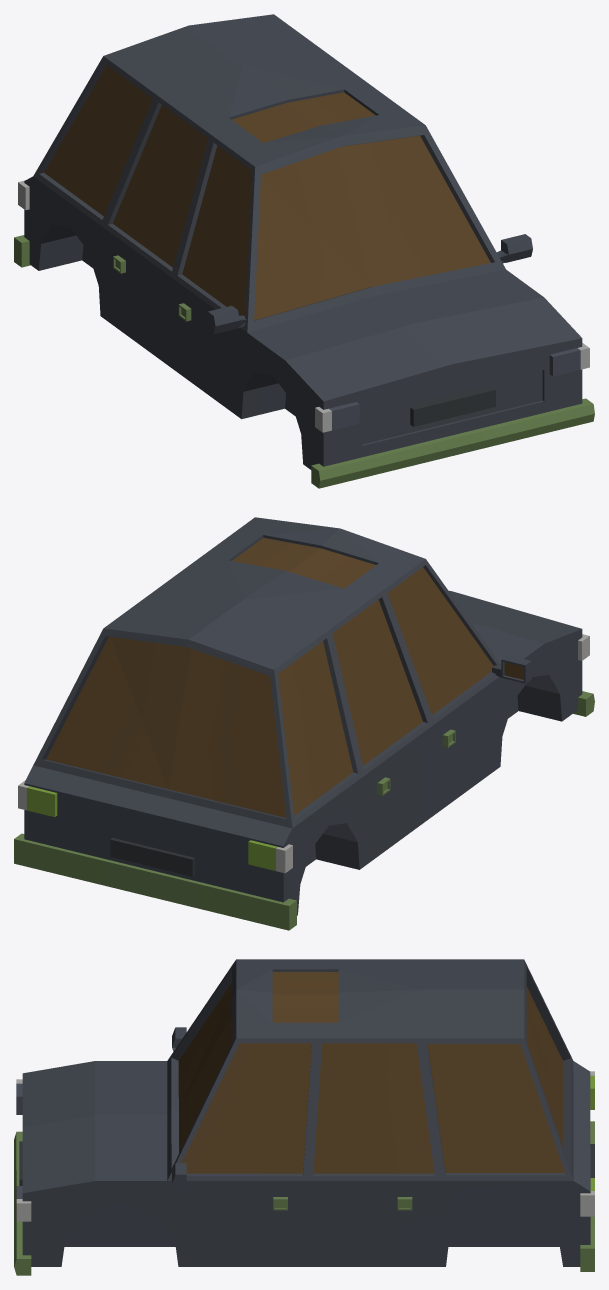
The model's file is Car_19.fbx.
3 views of the same model, one above another, from view 1: azimuth 30°, elevation 25°; view 2: azimuth 150°, elevation 25°; view 3: azimuth 270°, elevation 25° (orthographic). The views are drawn at different scales.
Visible parts, largest first — view 1: Car_19; view 2: Car_19; view 3: Car_19.
Boxes of the visible parts, box(x1,y1,x2,y2) form: Car_19: box(14, 14, 594, 488); Car_19: box(14, 517, 594, 930); Car_19: box(14, 959, 594, 1275).
Size of the model in its own units: 1.98 by 1.39 by 3.3.
